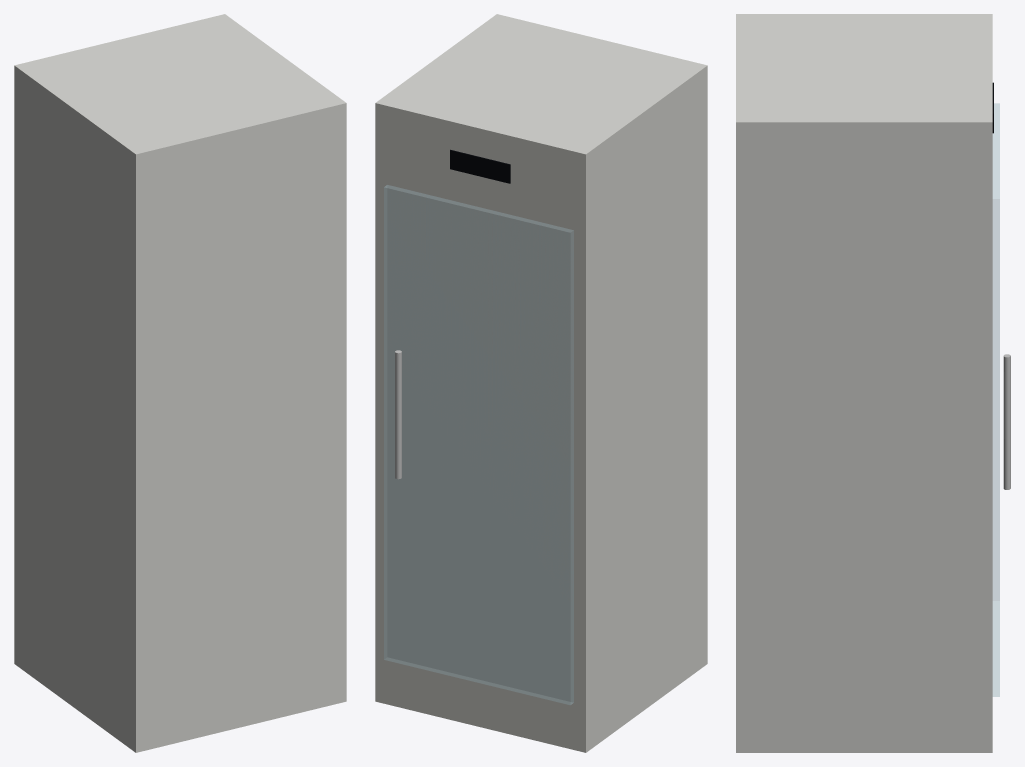
File: hospital.lab.fridge.glb
3 renders of one model, left to right at view 1: azimuth 30°, elevation 25°; view 2: azimuth 150°, elevation 25°; view 3: azimuth 270°, elevation 25°, orthographic. The views are drawn at different scales.
Parts seen in each view (by area): view 1: main__paint_white; view 2: main__paint_white, main__glass, main__screen, main__steel_stainless; view 3: main__paint_white, main__glass, main__steel_stainless.
Boxes of the visible parts, <box> form: main__paint_white: <box>14,14,346,752</box>; main__paint_white: <box>375,14,707,752</box>; main__glass: <box>384,185,573,704</box>; main__screen: <box>450,149,510,183</box>; main__steel_stainless: <box>395,350,401,479</box>; main__paint_white: <box>736,14,992,752</box>; main__glass: <box>993,103,999,696</box>; main__steel_stainless: <box>1003,354,1010,489</box>.
Bounding box in the file's own units: 0.7 × 1.9 × 0.75.
